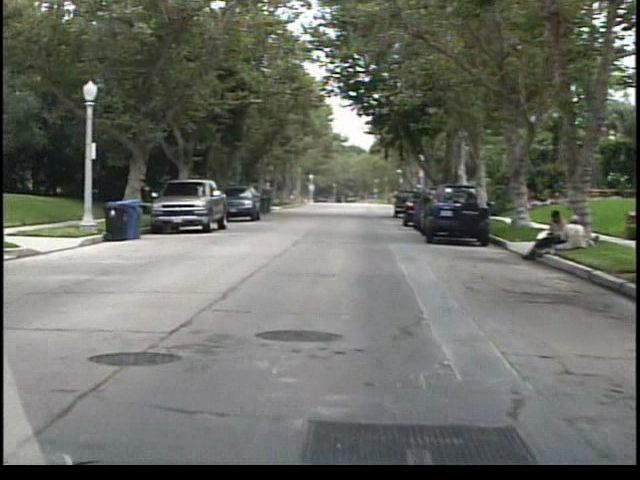person: (520, 207, 570, 261), (557, 208, 587, 245)
